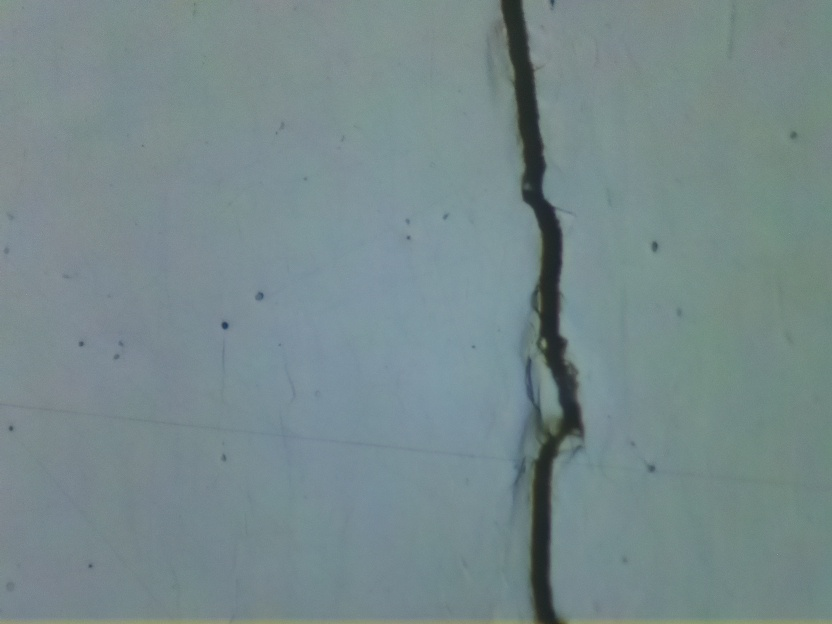crack: (499, 0, 582, 624)
